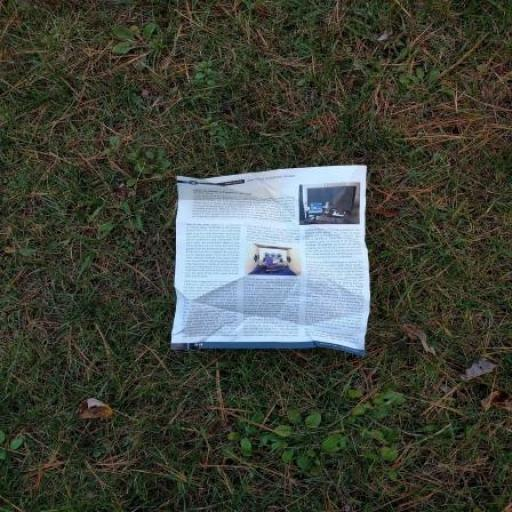paper: (80, 112, 470, 401)
